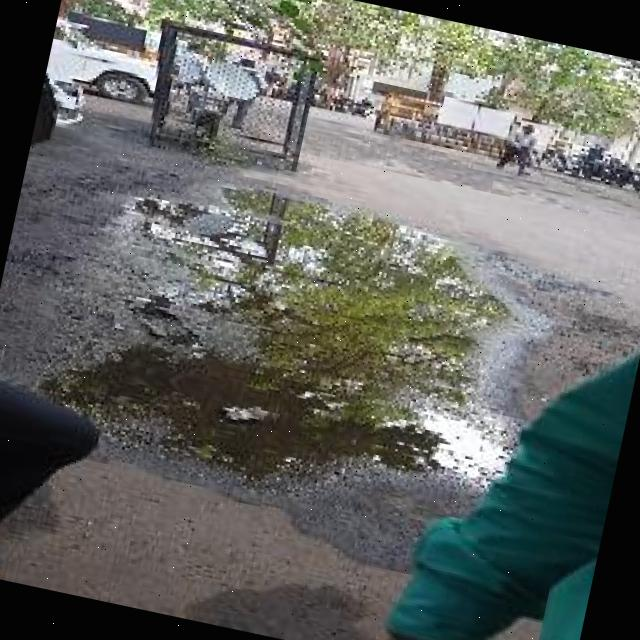stagnation: (62, 314, 450, 534)
